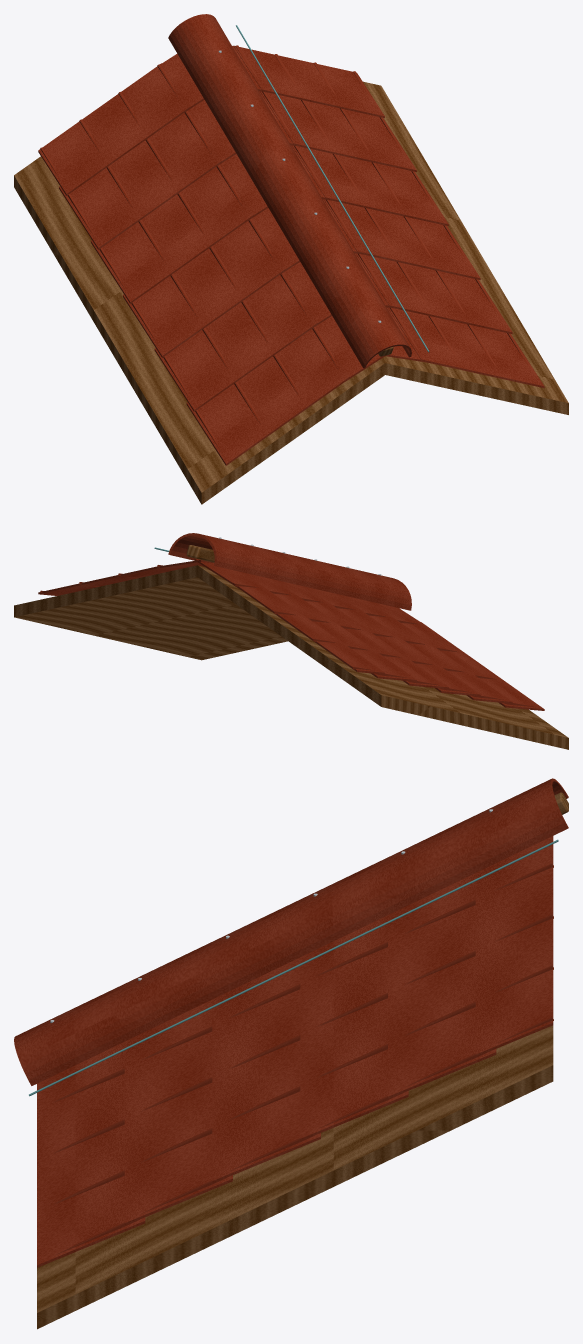
Rendered from modell.glb.
3 views of the same model, one above another, from view 1: azimuth 30°, elevation 25°; view 2: azimuth 150°, elevation 25°; view 3: azimuth 270°, elevation 25° (orthographic). The views are drawn at different scales.
Parts seen in each view (by area): view 1: w04-ziegel_deckung, w04-walmflaeche_tragwerk, w04-gratziegel_deckung, w04-bezuege_; view 2: w04-walmflaeche_tragwerk, w04-ziegel_deckung, w04-gratziegel_deckung, w04-gratlatte_lattung; view 3: w04-ziegel_deckung, w04-gratziegel_deckung, w04-walmflaeche_tragwerk, w04-bezuege_.
Part boxes in pixels (box(x1,y1,x2,y2)): w04-ziegel_deckung: box(38, 45, 544, 465); w04-walmflaeche_tragwerk: box(14, 81, 568, 504); w04-gratziegel_deckung: box(168, 14, 411, 368); w04-bezuege_: box(236, 25, 429, 352); w04-walmflaeche_tragwerk: box(14, 565, 568, 749); w04-ziegel_deckung: box(38, 558, 544, 710); w04-gratziegel_deckung: box(168, 533, 411, 610); w04-gratlatte_lattung: box(186, 545, 214, 562); w04-ziegel_deckung: box(37, 836, 553, 1267); w04-gratziegel_deckung: box(14, 778, 568, 1085); w04-walmflaeche_tragwerk: box(37, 1025, 553, 1329); w04-bezuege_: box(29, 839, 558, 1096).
Bounding box in the file's own units: 2.26 × 1.81 × 2.15.
Materials: 4 (2 with a texture image).
